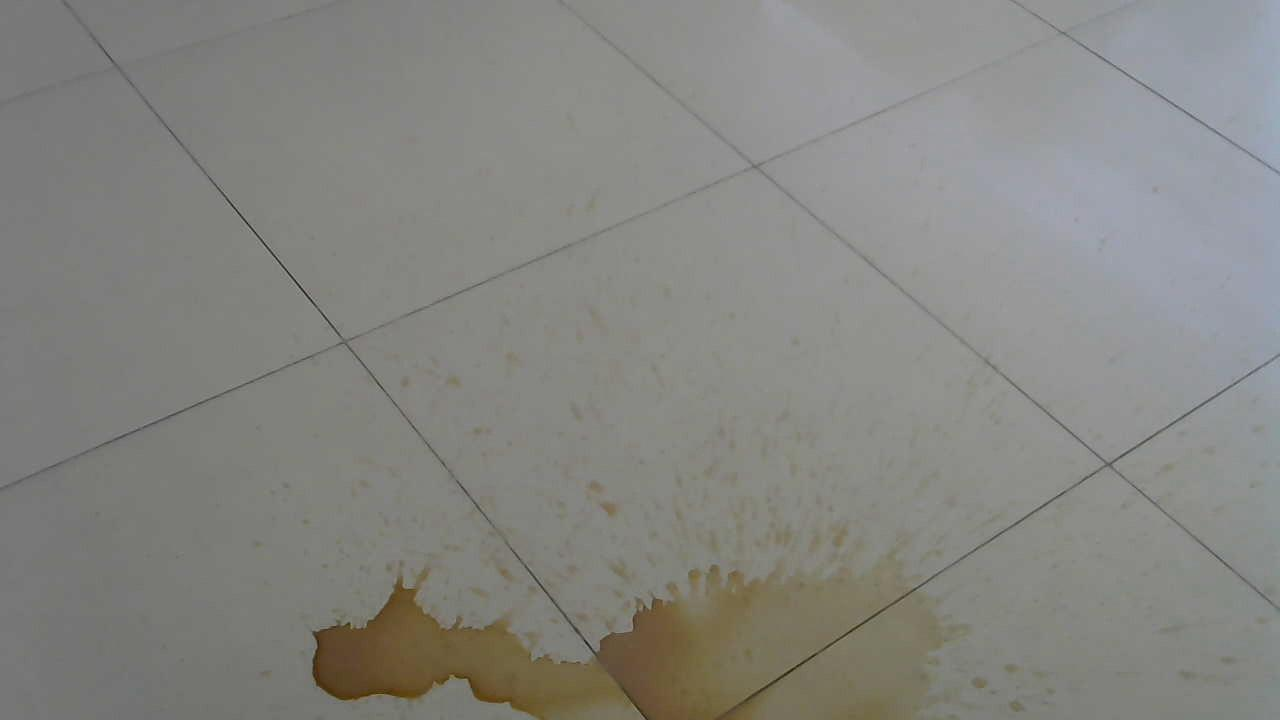dirty_floor: (294, 487, 1045, 716)
